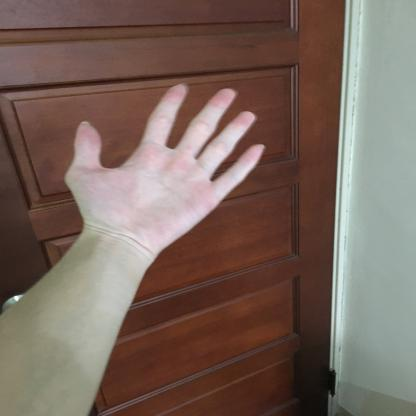bare_hand: (57, 76, 270, 266)
